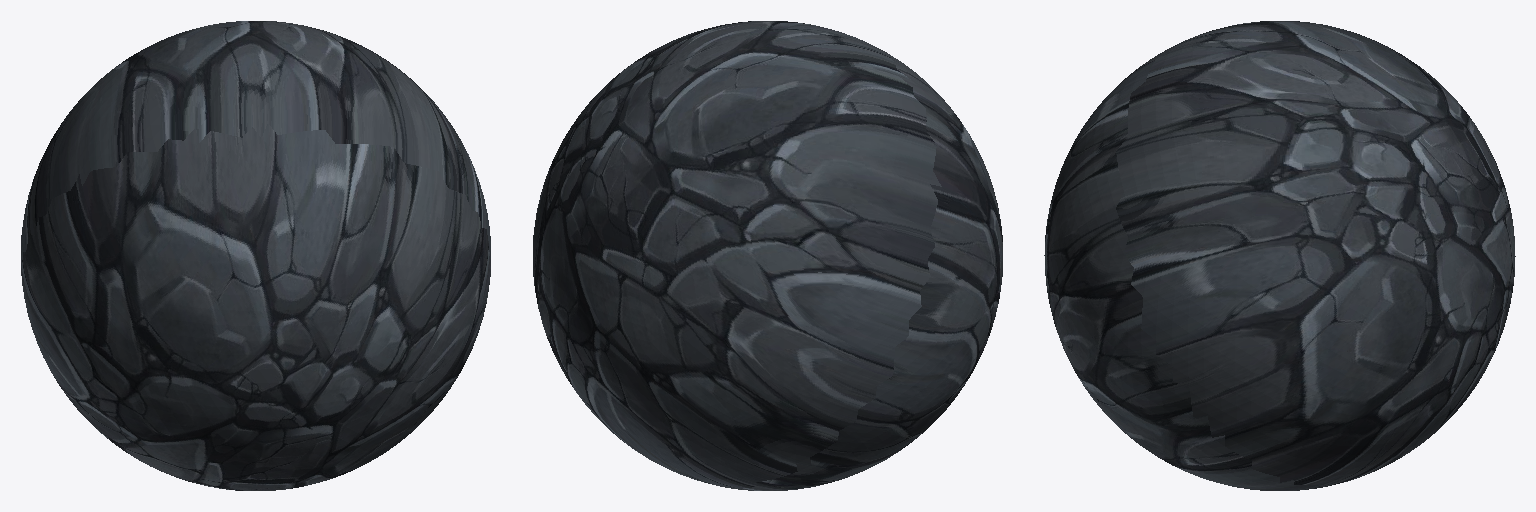
3 views of the same model, side by side, from view 1: azimuth 30°, elevation 25°; view 2: azimuth 150°, elevation 25°; view 3: azimuth 270°, elevation 25° (orthographic).
Parts seen in each view (by area): view 1: Object.1; view 2: Object.1; view 3: Object.1.
Boxes of the visible parts, x1=… form: Object.1: x1=21, y1=21, x2=490, y2=490; Object.1: x1=533, y1=21, x2=1002, y2=490; Object.1: x1=1044, y1=21, x2=1515, y2=490.
Bounding box in the file's own units: 40 × 40 × 40.
Materials: 1 (1 with a texture image).